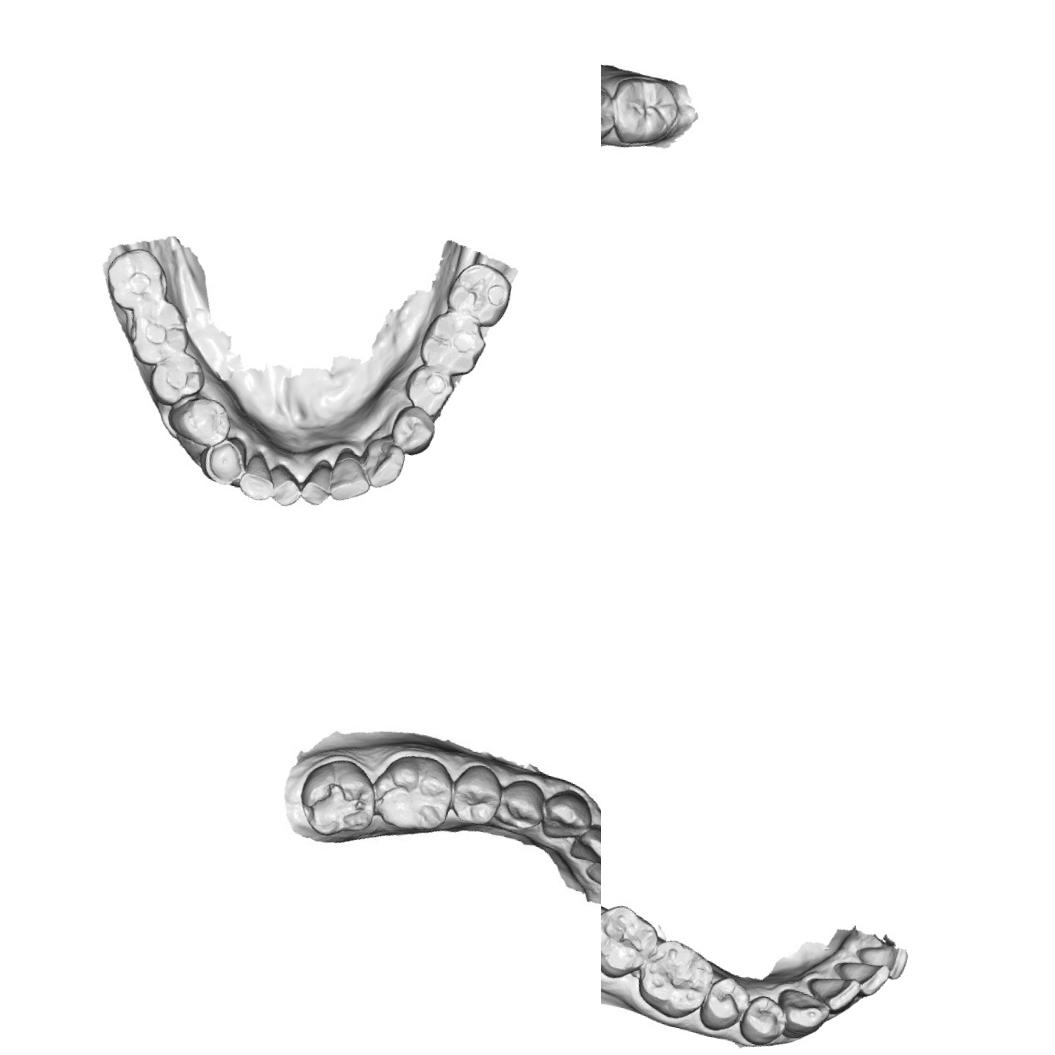canine: (534, 784, 596, 850), (770, 986, 834, 1044), (196, 431, 254, 490), (358, 432, 409, 493)
incisor: (827, 952, 892, 1002), (326, 449, 374, 510), (803, 968, 863, 1016), (850, 936, 910, 984), (232, 450, 280, 506), (296, 457, 340, 510), (265, 460, 308, 511), (572, 825, 601, 878), (578, 851, 601, 902)
molar: (629, 932, 721, 1026), (296, 752, 382, 844), (373, 754, 457, 842), (603, 70, 685, 154), (95, 238, 179, 318), (118, 290, 198, 374), (413, 304, 492, 383), (601, 896, 664, 987), (441, 256, 516, 332)
premolar: (142, 342, 212, 414), (163, 393, 237, 451), (695, 970, 756, 1037), (398, 358, 463, 420), (449, 759, 505, 829), (384, 400, 442, 464), (734, 990, 792, 1051), (492, 775, 549, 834), (601, 83, 622, 148)
